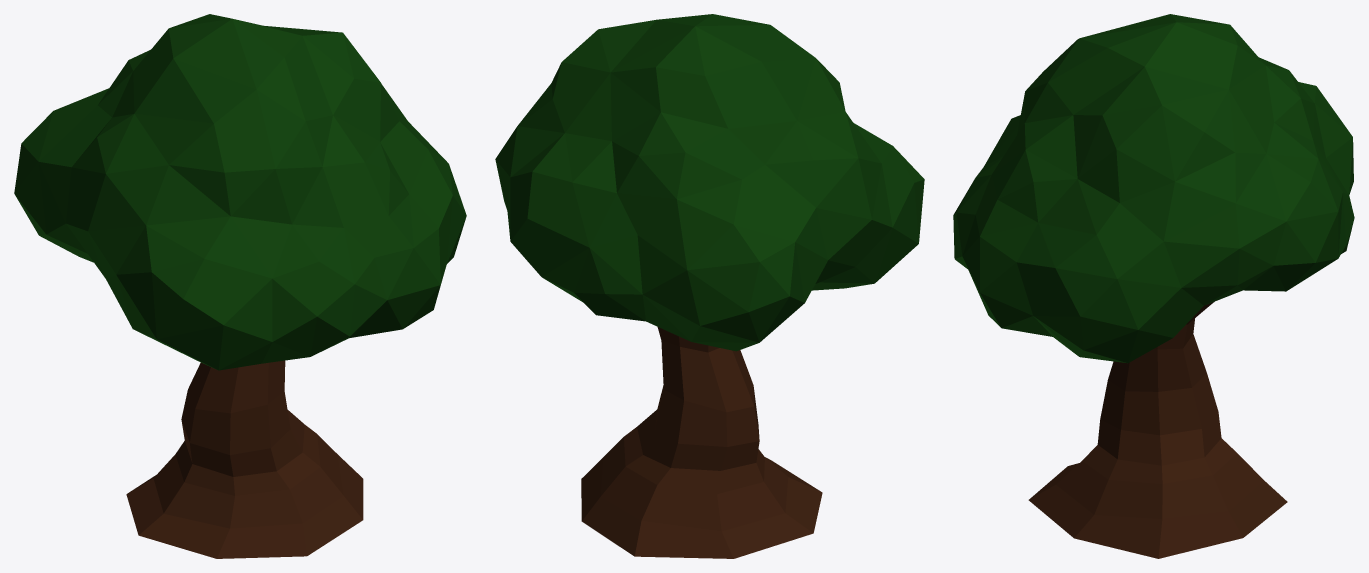
Rendered from Tree2.FBX.
3 renders of one model, left to right at view 1: azimuth 30°, elevation 25°; view 2: azimuth 150°, elevation 25°; view 3: azimuth 270°, elevation 25°, orthographic. The views are drawn at different scales.
Parts seen in each view (by area): view 1: LowPoly_Tree_02_Cube_000; view 2: LowPoly_Tree_02_Cube_000; view 3: LowPoly_Tree_02_Cube_000.
Boxes of the visible parts, left/top/right/bottom form: LowPoly_Tree_02_Cube_000: left=14, top=14, right=466, bottom=558; LowPoly_Tree_02_Cube_000: left=495, top=14, right=924, bottom=558; LowPoly_Tree_02_Cube_000: left=953, top=14, right=1354, bottom=558.
Size of the model in its own units: 1.83 by 2.42 by 1.84.
